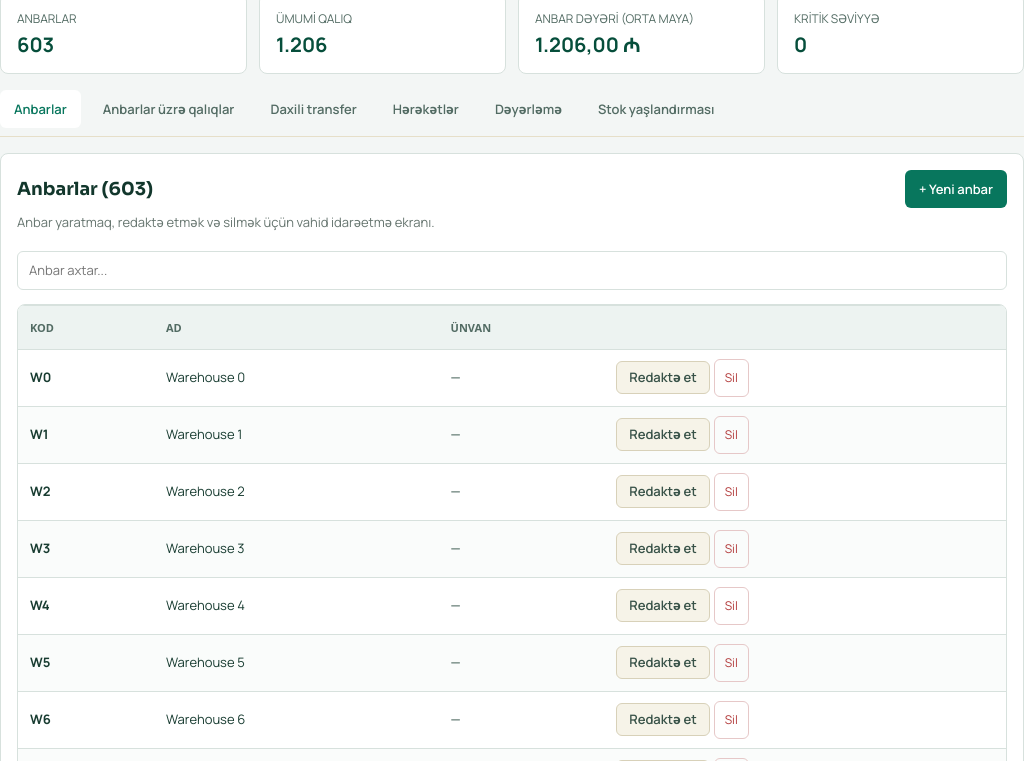
Scenario: bounds canonical warehouse and balance rendering while retaining complete totals and selectors
Later steps or results of the test are not shown.
Click the button "+ Yeni anbar" at (956, 189), box [905, 170, 1007, 208]
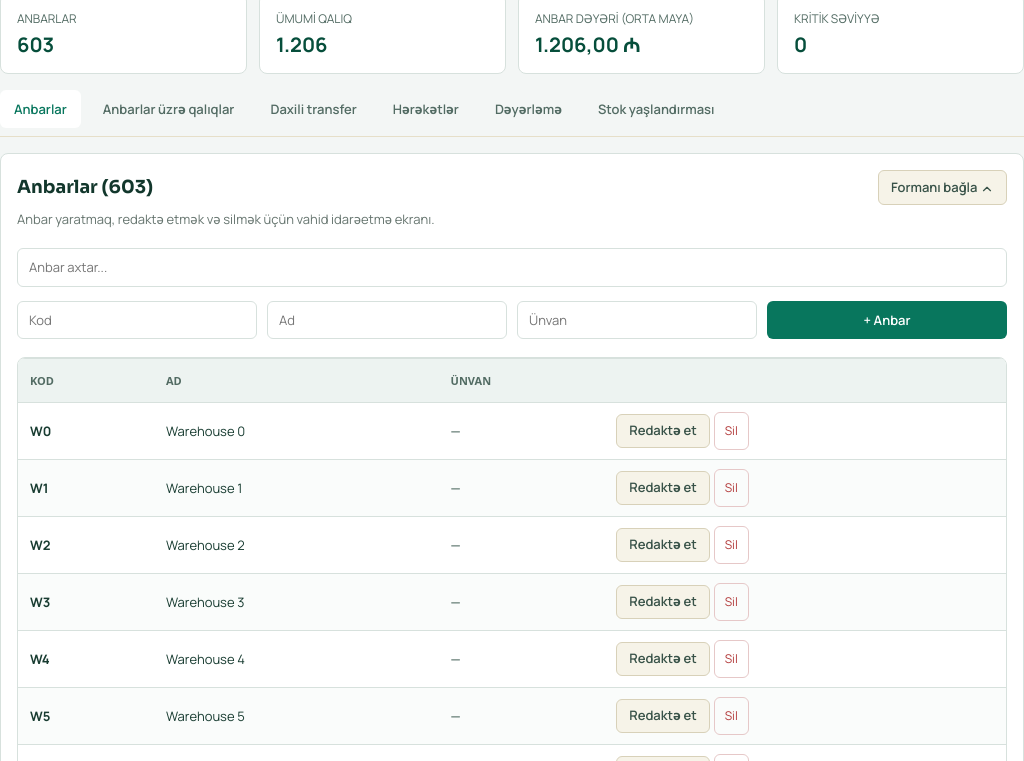
Now the field with placeholder "Kod" is shown, box [17, 301, 257, 339]
Type "W602" into the search field named "Anbar axtarışı" at (512, 267), box [17, 248, 1007, 286]
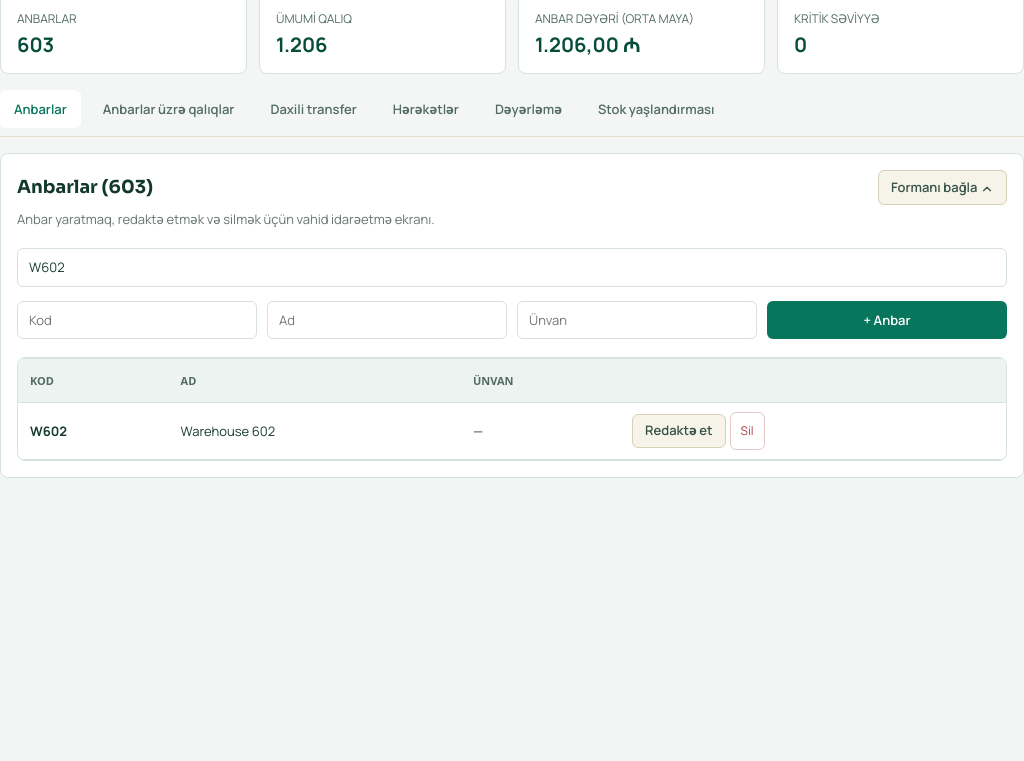
Now the text "Warehouse 602" is shown, box [169, 403, 461, 460]
Click the button "Anbarlar üzrə qalıqlar" at (169, 109), box [89, 90, 248, 128]
(page scrolled)
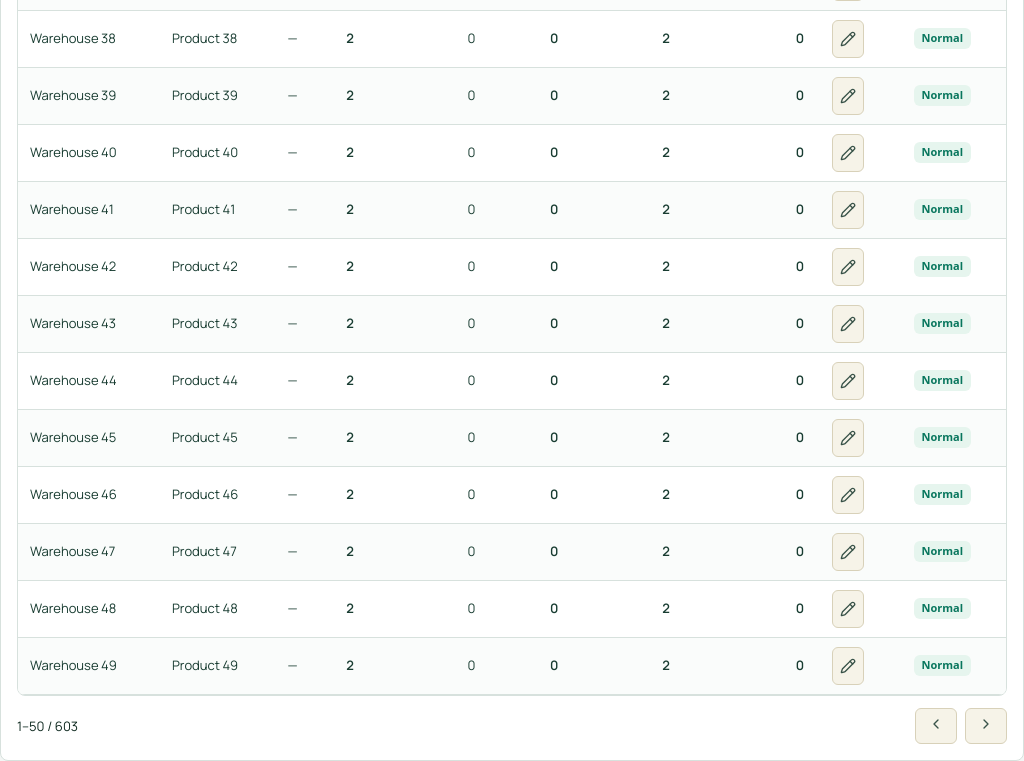
Click the button named "Növbəti səhifə" at (986, 726), box [965, 708, 1007, 744]
(page scrolled)
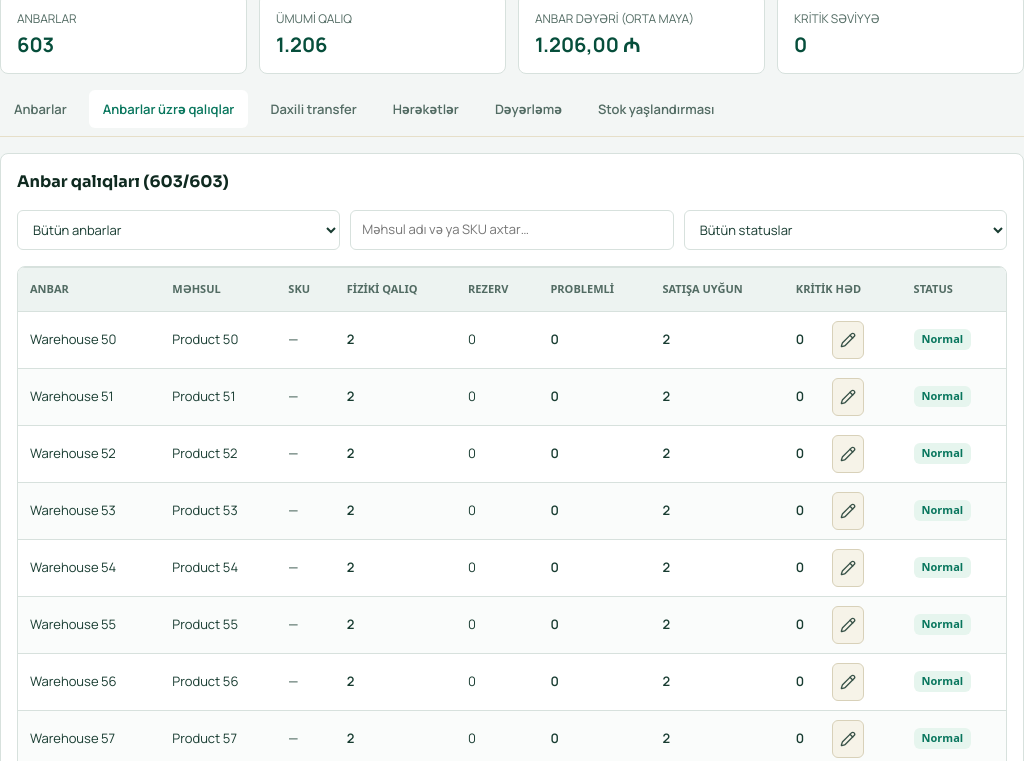
Now the text "Product 50" is shown, box [160, 311, 276, 368]
